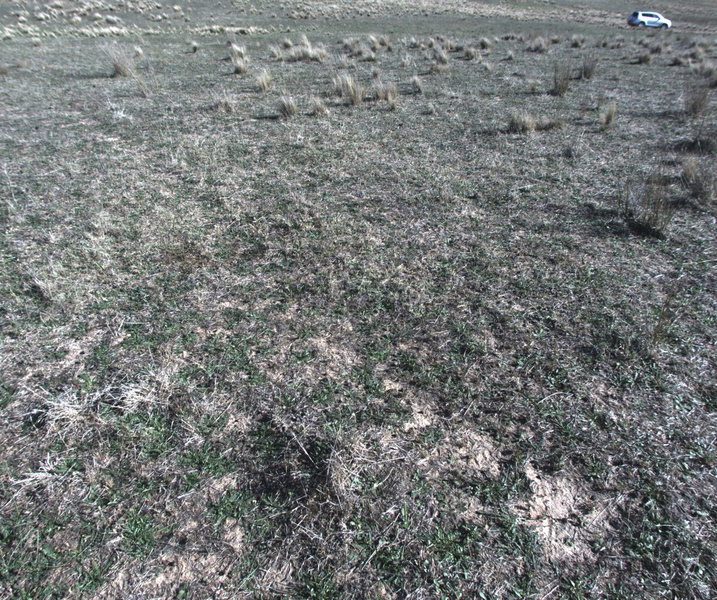st: (332, 71, 359, 99), (503, 111, 533, 136), (598, 101, 620, 130), (251, 69, 270, 98), (227, 54, 249, 78), (223, 41, 251, 59), (279, 91, 293, 123), (407, 74, 426, 96), (283, 46, 314, 57), (309, 96, 326, 116), (636, 50, 655, 67), (364, 34, 380, 54), (525, 36, 545, 52), (367, 83, 386, 99), (433, 43, 445, 68), (346, 88, 362, 105), (465, 43, 478, 63), (384, 82, 398, 99), (476, 31, 485, 51), (389, 104, 398, 112)
